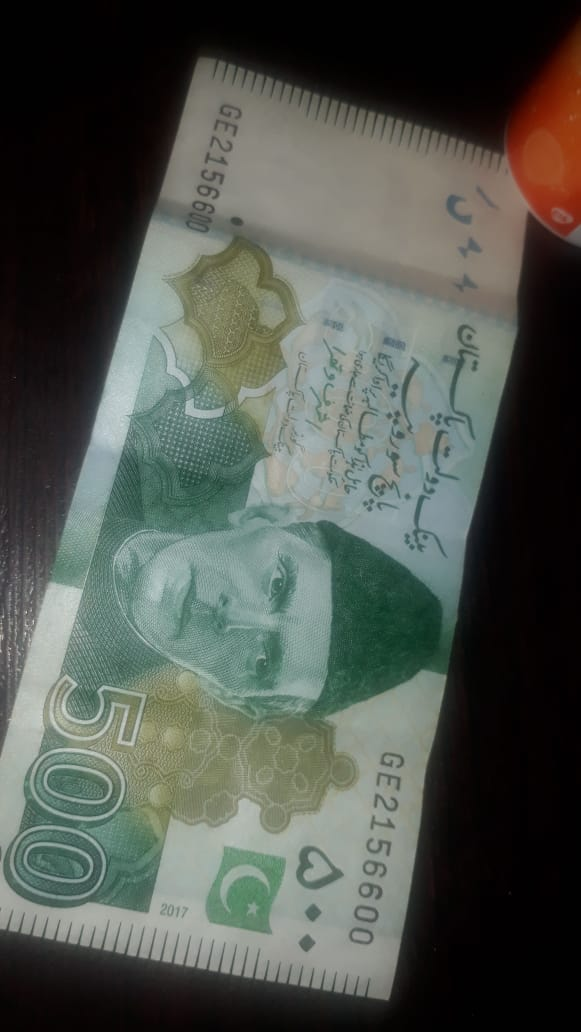500 rupee: (14, 57, 536, 1010)
